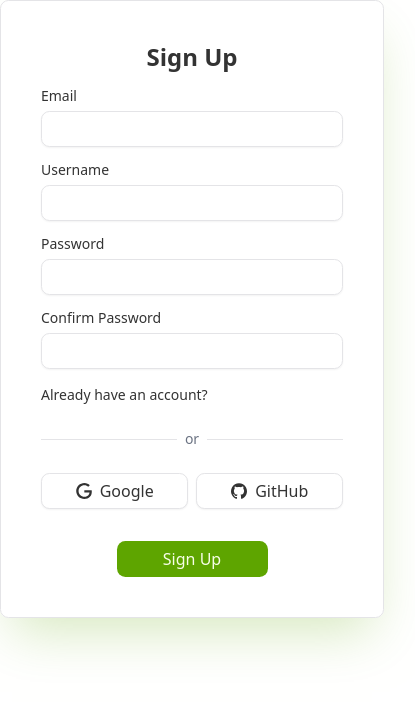
Test: SignUpForm component test › Form validation › Should show error if passwords don't match
Type "password123" into the password field with test id "signUp-password-field" at (192,277), box left=41, top=259, right=343, bottom=295
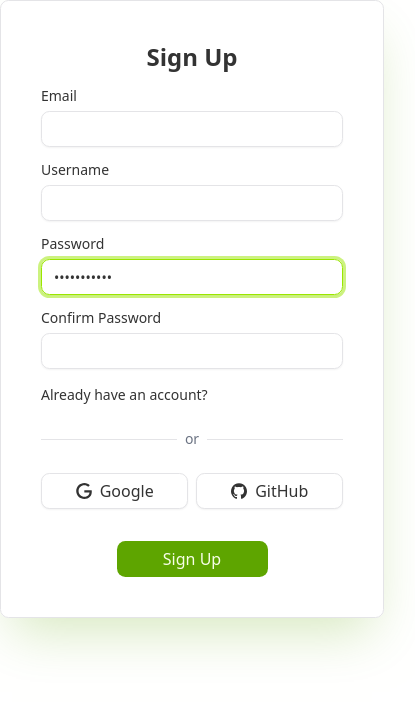
Type "password321" into the password field with test id "signUp-confirmPassword-field" at (192,351), box left=41, top=333, right=343, bottom=369
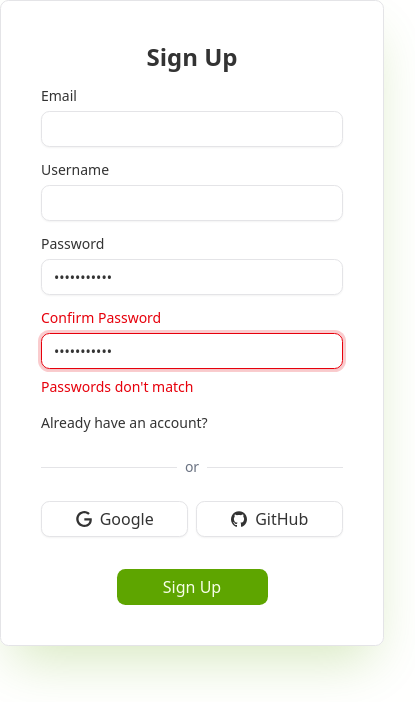
Check: the text "Passwords don't match" is shown, box left=41, top=377, right=194, bottom=396
